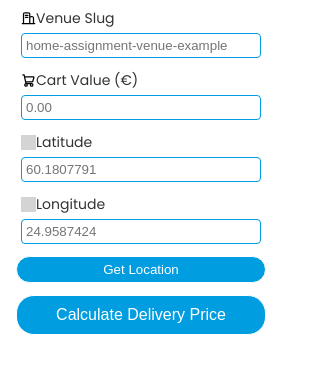
Test case: PriceCalculatorForm Component › displays error message for invalid cart value (<= 0)
Step 1. Type "-10" into the field labelled "Cart Value (€)" → x=141, y=108, box [21,95,261,120]
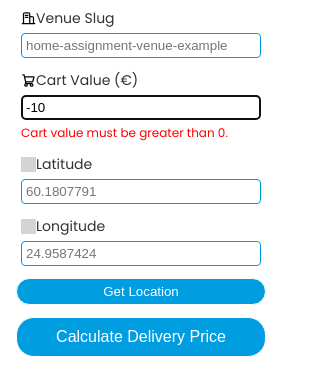
Check: the text "Cart value must be greater than 0." is shown, box [21,124,228,142]
